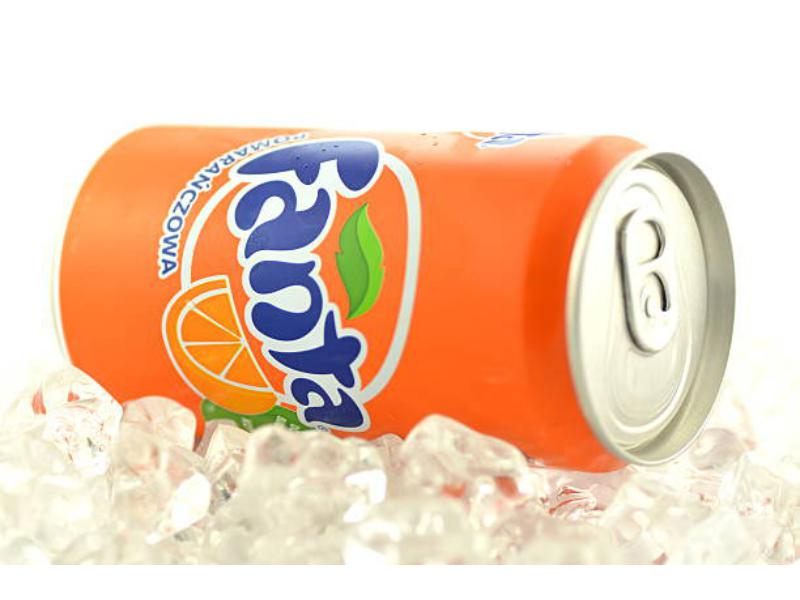can: (50, 118, 738, 473)
